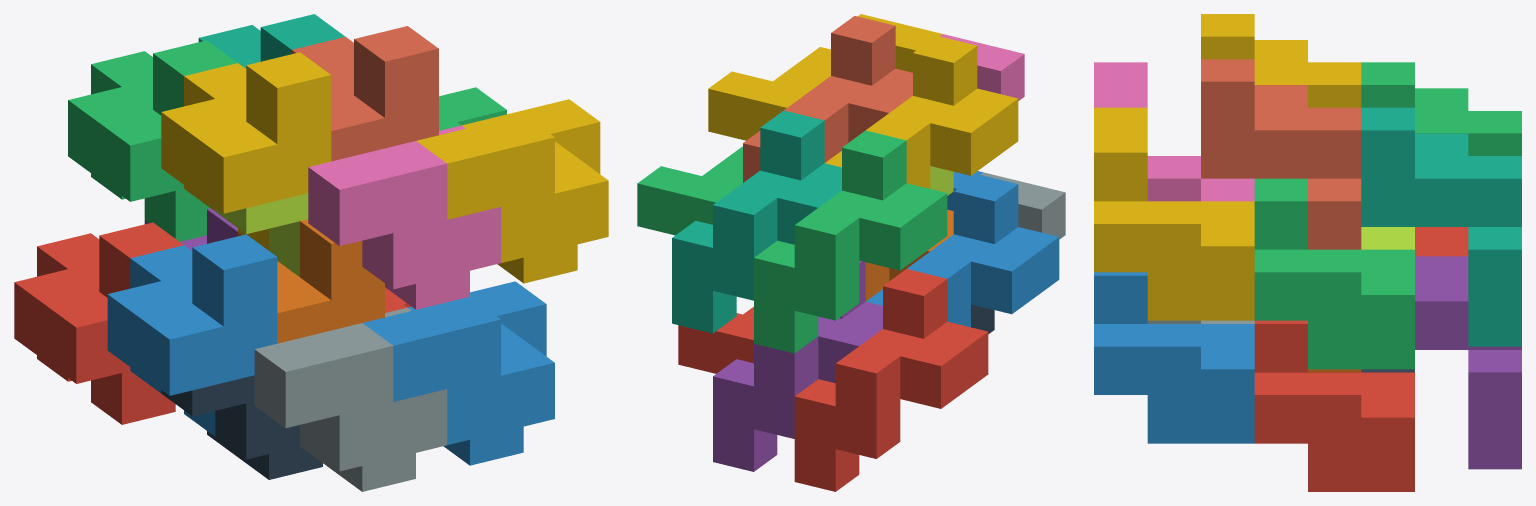
Rendered from tiling.obj.
The picture shows the model from 3 angles, left to right: view 1: azimuth 30°, elevation 25°; view 2: azimuth 150°, elevation 25°; view 3: azimuth 270°, elevation 25°; orthographic projection. The views are drawn at different scales.
Visible parts, largest first — view 1: copy_2_domain_8, copy_1_domain_2, copy_2_domain_6, copy_1_domain_4, copy_2_domain_2, copy_2_domain_4, copy_1_domain_1, copy_1_domain_3, copy_1_domain_8, copy_1_domain_6, copy_2_domain_1, copy_1_domain_7 (+3 smaller); view 2: copy_1_domain_1, copy_1_domain_3, copy_1_domain_7, copy_1_domain_2, copy_1_domain_4, copy_1_domain_5, copy_1_domain_8, copy_2_domain_8, copy_2_domain_7, copy_2_domain_5, copy_2_domain_2, copy_2_domain_4 (+3 smaller); view 3: copy_2_domain_8, copy_1_domain_7, copy_2_domain_7, copy_2_domain_5, copy_2_domain_6, copy_1_domain_8, copy_1_domain_5, copy_1_domain_4, copy_1_domain_3, copy_2_domain_4, copy_1_domain_1, copy_2_domain_3.
Part boxes in pixels (x1,y1,x2,y2): copy_2_domain_8: [416, 99, 608, 283]; copy_1_domain_2: [107, 234, 277, 436]; copy_2_domain_6: [363, 281, 554, 465]; copy_1_domain_4: [161, 52, 331, 250]; copy_2_domain_2: [254, 307, 447, 491]; copy_2_domain_4: [308, 125, 500, 309]; copy_1_domain_1: [14, 222, 183, 424]; copy_1_domain_3: [68, 40, 237, 241]; copy_1_domain_8: [291, 26, 438, 161]; copy_1_domain_6: [238, 219, 384, 343]; copy_2_domain_1: [161, 375, 322, 479]; copy_1_domain_7: [198, 14, 345, 68]; copy_1_domain_1: [794, 269, 988, 491]; copy_1_domain_3: [754, 130, 947, 353]; copy_1_domain_7: [672, 110, 841, 333]; copy_1_domain_2: [866, 174, 1059, 327]; copy_1_domain_4: [825, 35, 1018, 188]; copy_1_domain_5: [713, 260, 882, 471]; copy_1_domain_8: [743, 16, 912, 182]; copy_2_domain_8: [708, 14, 942, 140]; copy_2_domain_7: [637, 146, 742, 235]; copy_2_domain_5: [678, 306, 753, 373]; copy_2_domain_2: [980, 172, 1065, 239]; copy_2_domain_4: [939, 34, 1024, 100]; copy_2_domain_8: [1094, 107, 1254, 320]; copy_1_domain_7: [1361, 107, 1521, 346]; copy_2_domain_7: [1254, 178, 1414, 369]; copy_2_domain_5: [1254, 320, 1414, 491]; copy_2_domain_6: [1094, 272, 1254, 443]; copy_1_domain_8: [1201, 59, 1361, 249]; copy_1_domain_5: [1415, 256, 1521, 469]; copy_1_domain_4: [1201, 14, 1361, 107]; copy_1_domain_3: [1361, 62, 1521, 155]; copy_2_domain_4: [1094, 62, 1254, 201]; copy_1_domain_1: [1415, 227, 1468, 256]; copy_2_domain_3: [1361, 227, 1414, 249].
Size of the model in its own units: 8 by 8 by 8.
